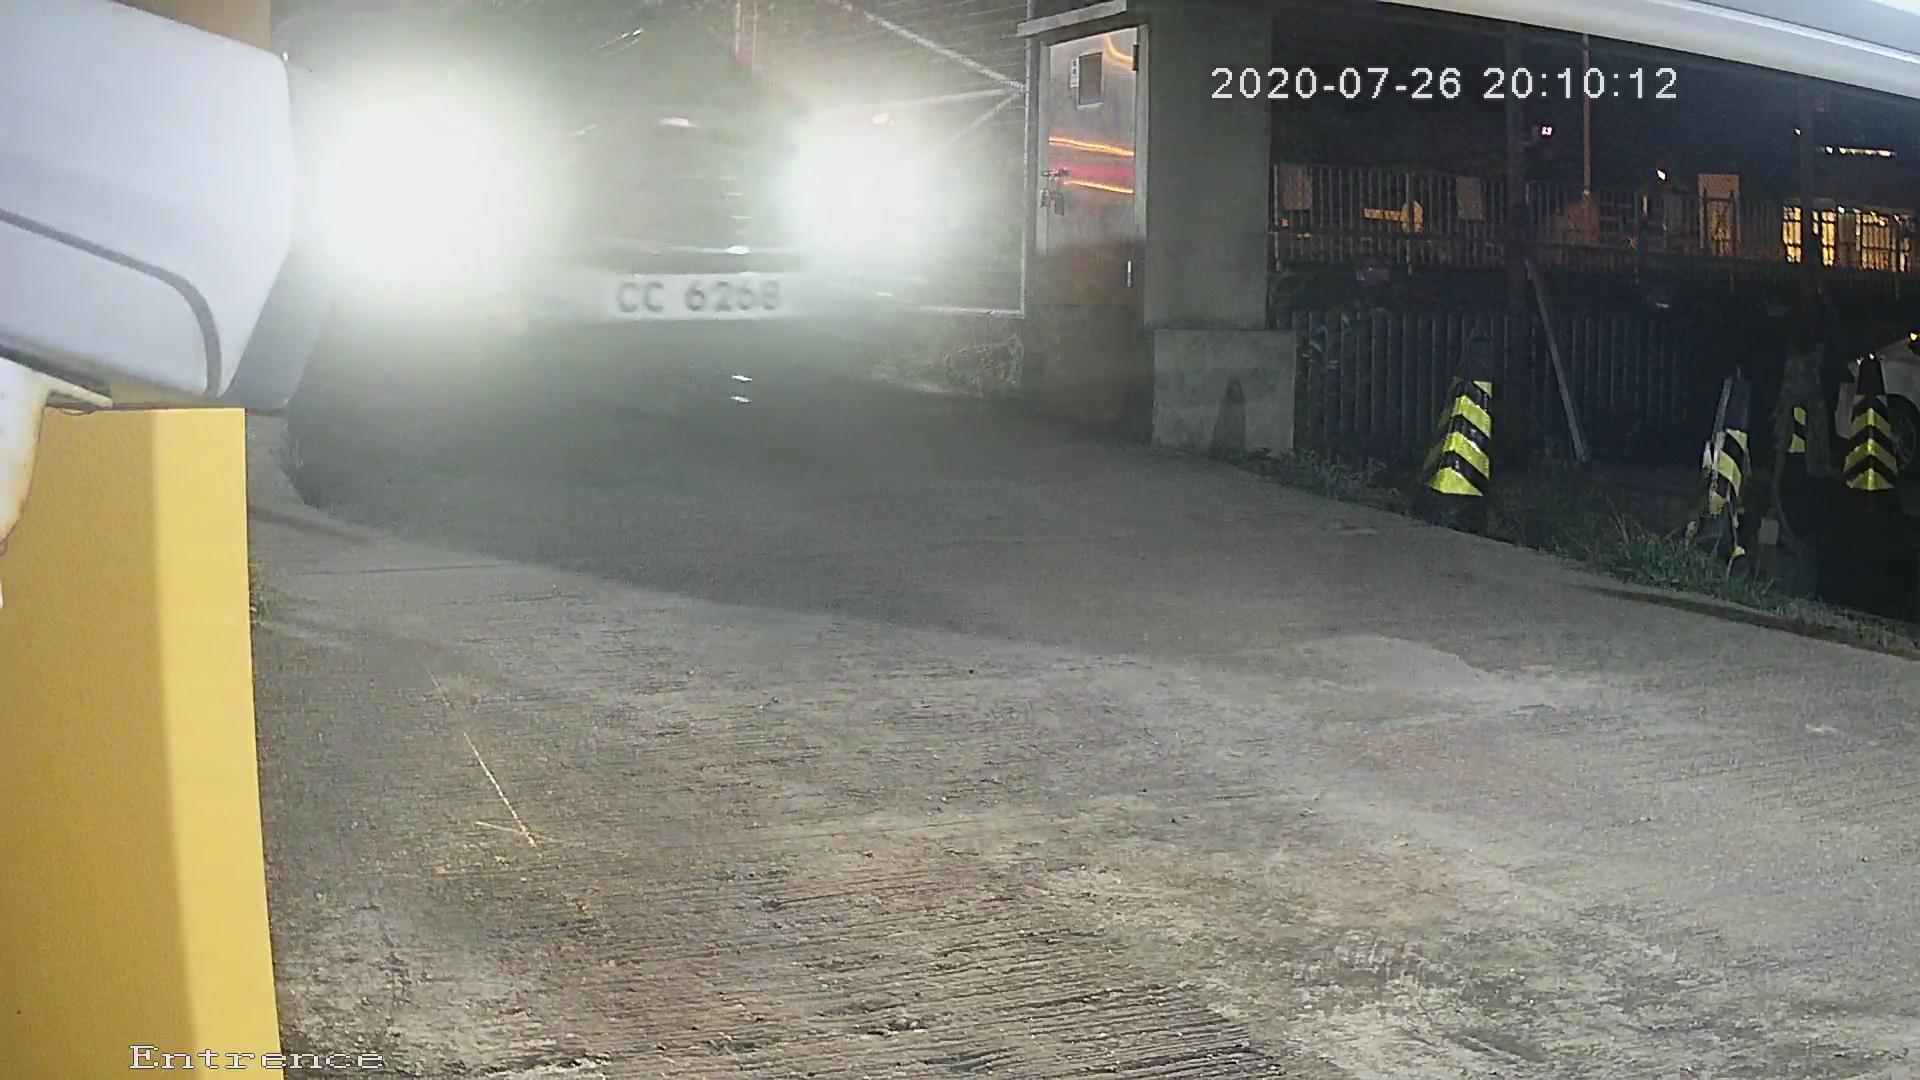License Plate: (558, 242, 823, 352)
